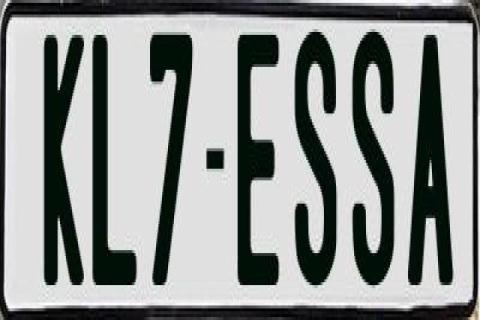0: (146, 35, 194, 297)
A: (408, 32, 454, 288)
E: (237, 35, 281, 291)
K: (44, 35, 84, 291)
L: (90, 26, 142, 291)
S: (352, 32, 398, 302), (294, 29, 336, 282)
